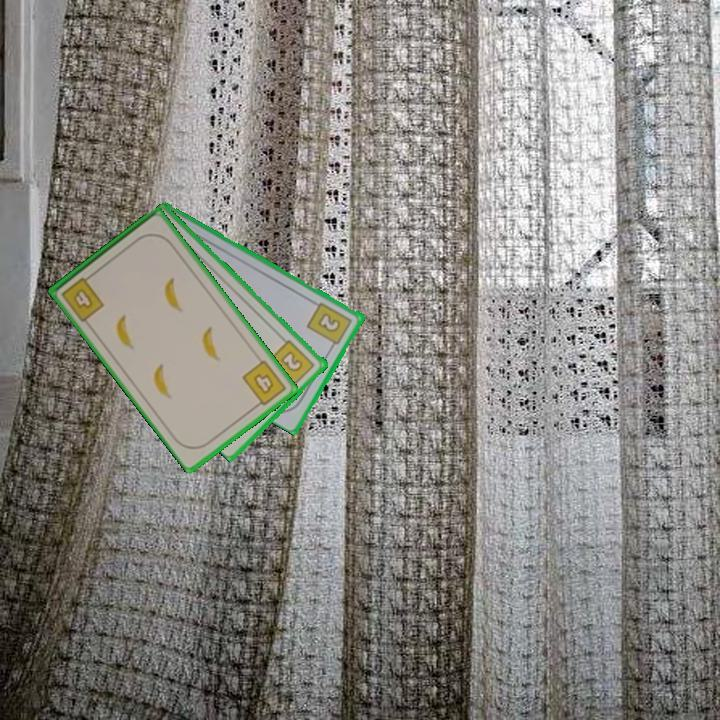2b: (266, 336, 318, 391), (304, 299, 355, 352)
4b: (239, 356, 289, 411), (58, 270, 107, 325)
